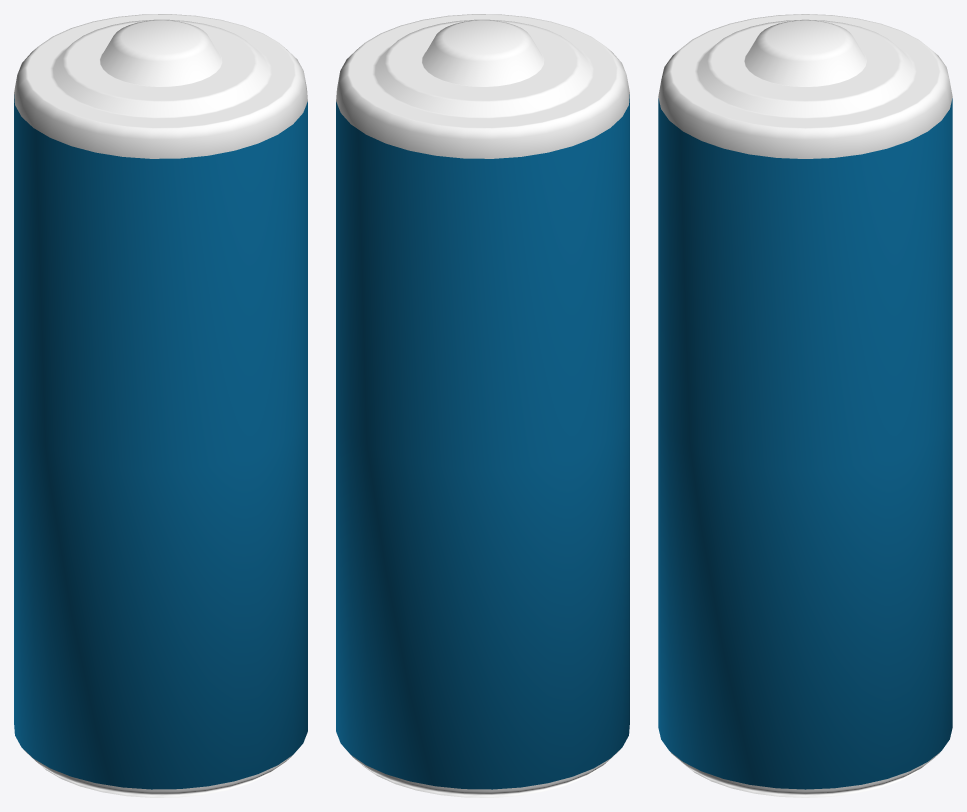
File: Battery.fbx
3 renders of one model, left to right at view 1: azimuth 30°, elevation 25°; view 2: azimuth 150°, elevation 25°; view 3: azimuth 270°, elevation 25°, orthographic.
Parts seen in each view (by area): view 1: Battery; view 2: Battery; view 3: Battery.
Boxes of the visible parts, x1=… form: Battery: x1=14, y1=14, x2=307, y2=797; Battery: x1=336, y1=14, x2=629, y2=797; Battery: x1=658, y1=14, x2=952, y2=797.
Size of the model in its own units: 15.58 by 41.13 by 15.58.
